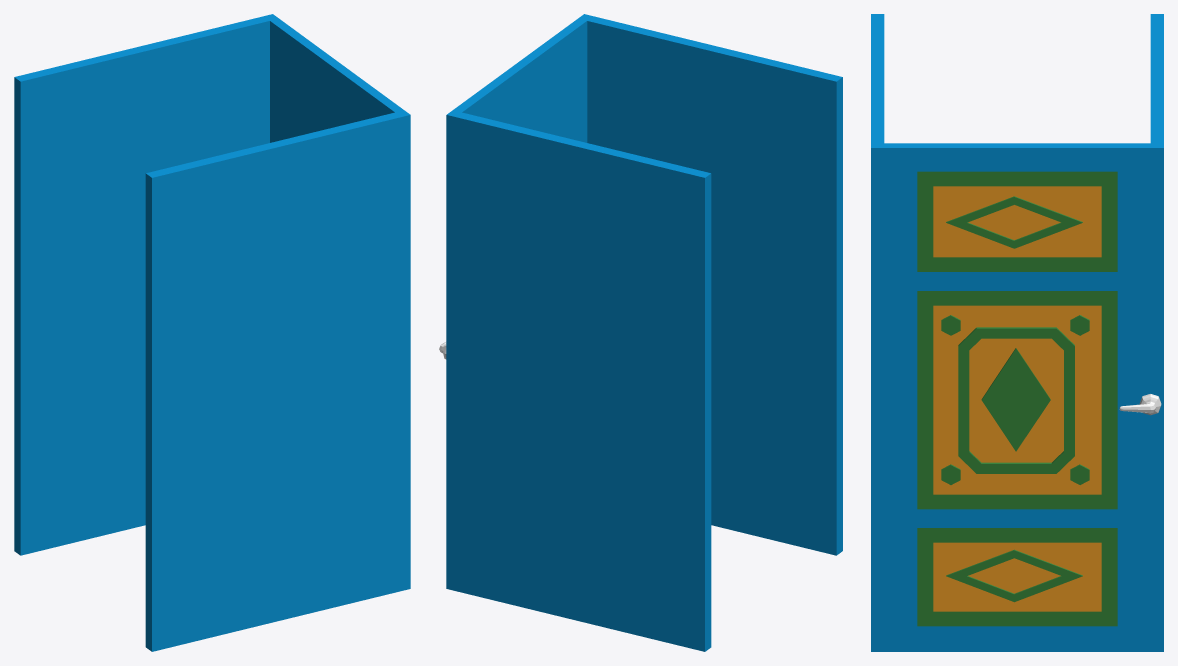
File: MXC_Restroom_StallMale_Lv2.fbx
The picture shows the model from 3 angles, left to right: view 1: azimuth 30°, elevation 25°; view 2: azimuth 150°, elevation 25°; view 3: azimuth 270°, elevation 25°; orthographic projection. The views are drawn at different scales.
Visible parts, largest first — view 1: MXC_Restroom_StallMale_Lv2; view 2: MXC_Restroom_StallMale_Lv2; view 3: MXC_Restroom_StallMale_Lv2.
Boxes of the visible parts, x1,y1,x2,y2 form: MXC_Restroom_StallMale_Lv2: (14,14,410,651); MXC_Restroom_StallMale_Lv2: (439,14,842,651); MXC_Restroom_StallMale_Lv2: (871,14,1163,651).
Bounding box in the file's own units: 227 × 380 × 200.
